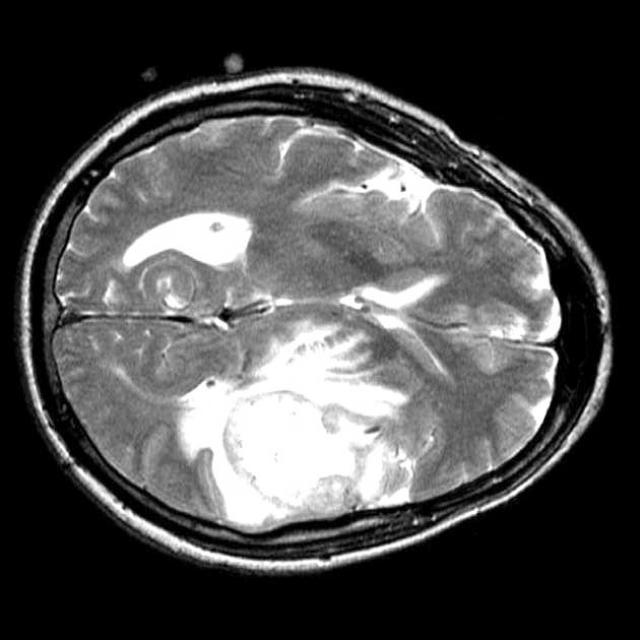tumor: (182, 330, 413, 526)
